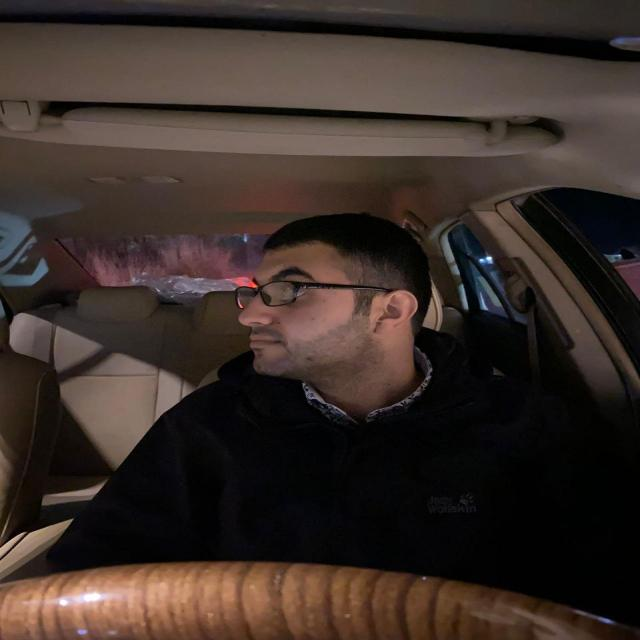LeftRight: (233, 224, 432, 375)
